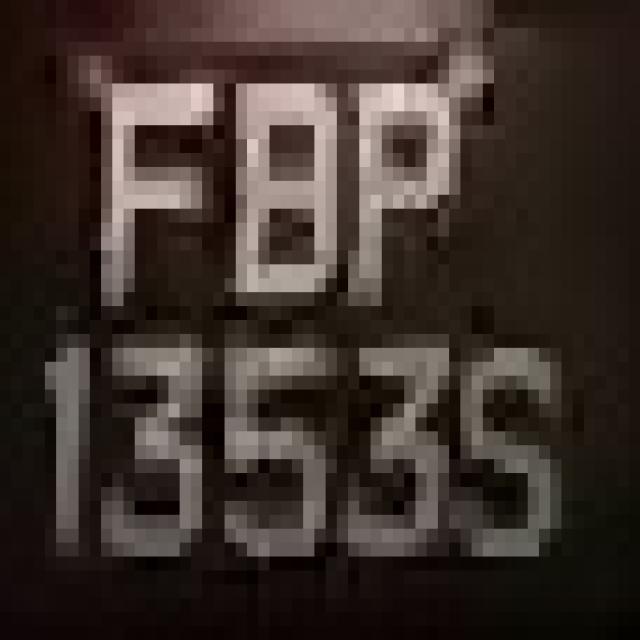1: (22, 306, 90, 598)
3: (79, 306, 202, 571), (326, 334, 449, 584)
5: (191, 306, 314, 571)
B: (202, 42, 359, 320)
F: (67, 42, 202, 306)
P: (337, 56, 460, 334)
S: (449, 348, 562, 584)
